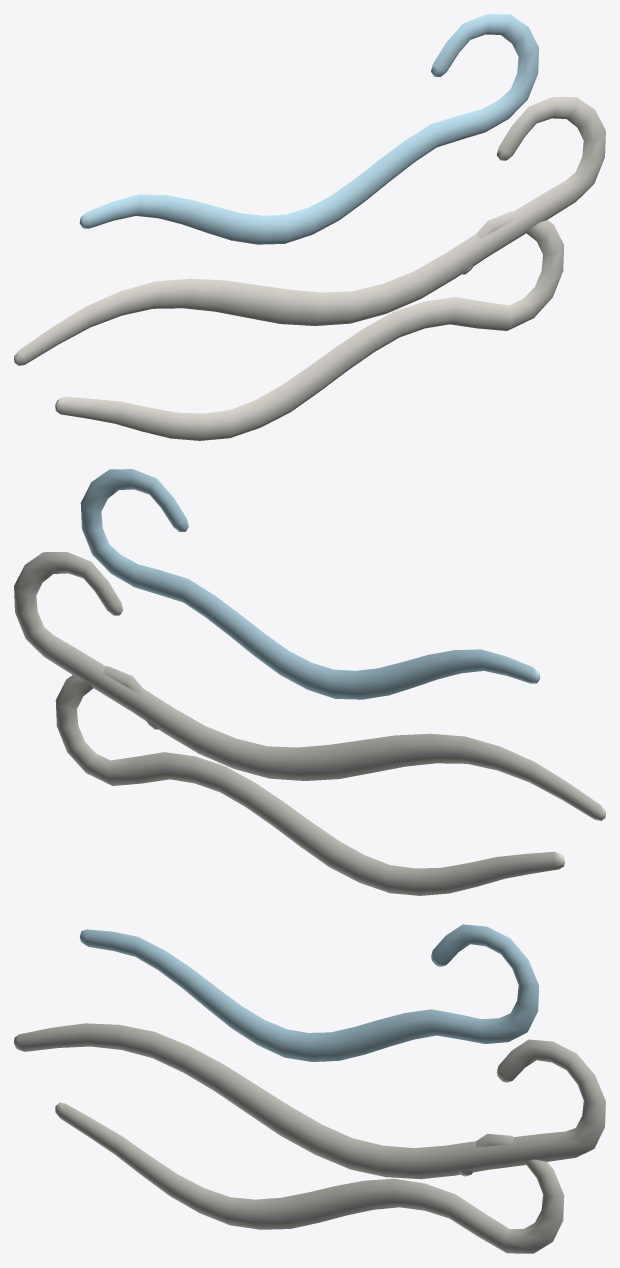
The model's file is H08_GustStreak.fbx.
3 renders of one model, top to bottom at view 1: azimuth 30°, elevation 25°; view 2: azimuth 150°, elevation 25°; view 3: azimuth 330°, elevation 25°, orthographic.
Parts seen in each view (by area): view 1: H08_GustStreak; view 2: H08_GustStreak; view 3: H08_GustStreak.
Part boxes in pixels (bbox=[...]): H08_GustStreak: bbox=[14, 14, 605, 440]; H08_GustStreak: bbox=[14, 469, 605, 895]; H08_GustStreak: bbox=[14, 924, 605, 1253].
Size of the model in its own units: 3.59 by 2.1 by 0.0841.
